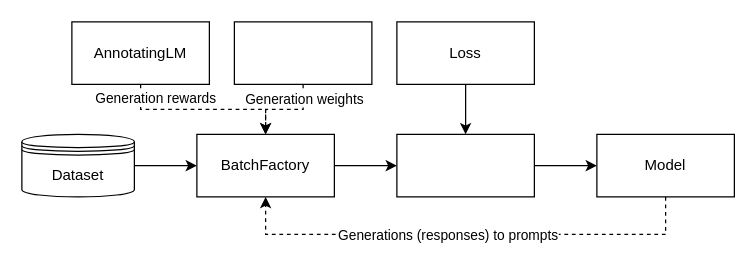
Some shapes in this 756 by 266 pixel diagram are drawn without their labels. Here are the shapes that lost their labels. From the top down, the centre of each, then its label:
the point at 302,52: SampleReweighter
the point at 465,165: Trainer
